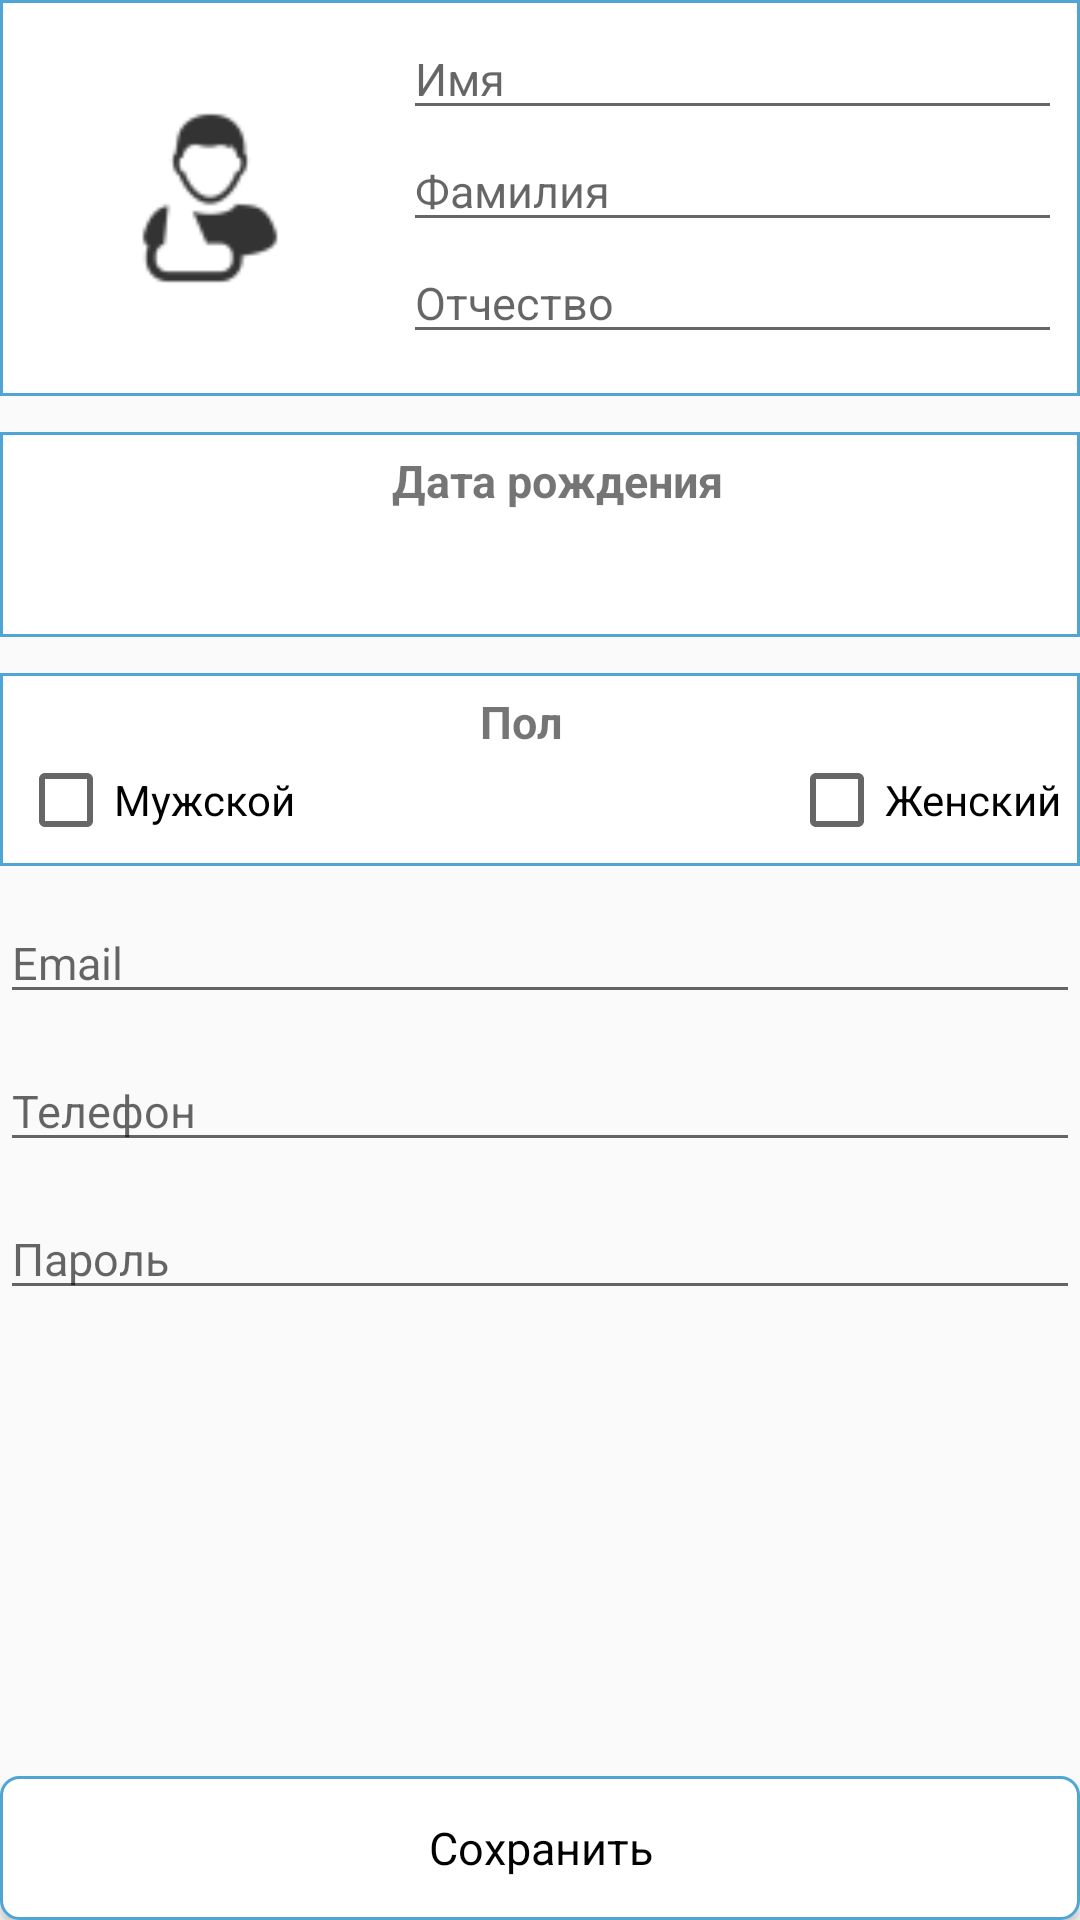

Screen size 1080px x 1920px. Icon name, then its box in pixels as (x1, y1, x2, y2):
patient: (142, 113, 278, 283)
